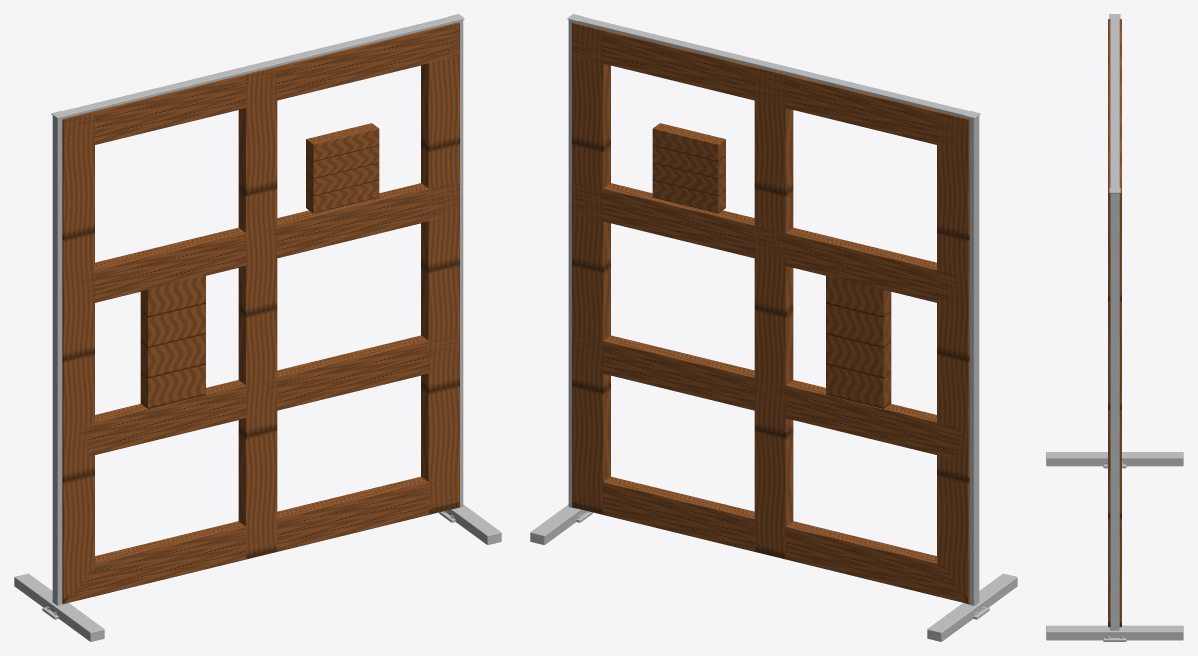
The model's file is fps-weapon-set-and-firing-range-multi-port-training-wa-bd47398d__19520.glb.
3 views of the same model, side by side, from view 1: azimuth 30°, elevation 25°; view 2: azimuth 150°, elevation 25°; view 3: azimuth 270°, elevation 25° (orthographic). The views are drawn at different scales.
Parts seen in each view (by area): view 1: multi-port-training-wall; view 2: multi-port-training-wall; view 3: multi-port-training-wall.
Boxes of the visible parts, <box> form: multi-port-training-wall: <box>14,14,501,641</box>; multi-port-training-wall: <box>530,14,1017,641</box>; multi-port-training-wall: <box>1046,14,1183,641</box>.
Size of the model in its own units: 1.58 by 1.8 by 0.4999.
Materials: 2 (1 with a texture image).
